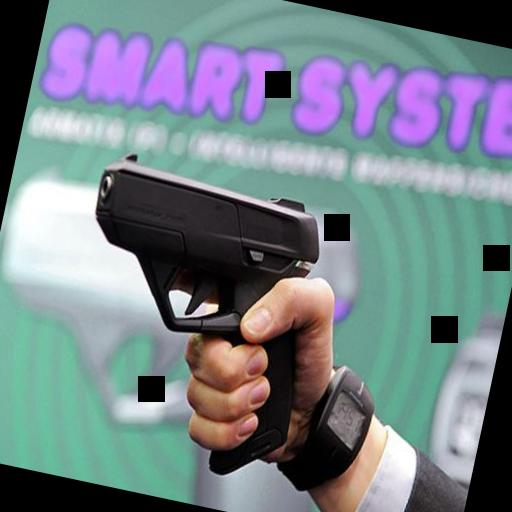Handgun: (44, 136, 342, 490)
